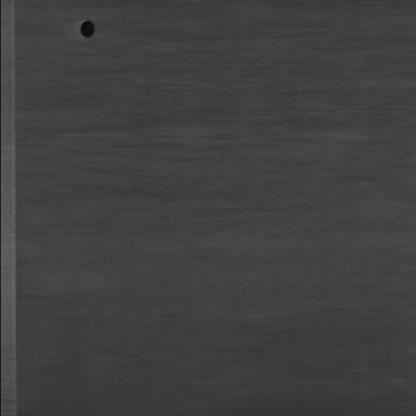punching_hole: (73, 19, 99, 45)
welding_line: (5, 0, 34, 415)
